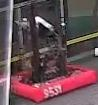red_number: (42, 83, 63, 100)
